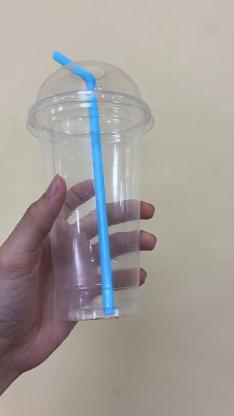Plastic Cup: (29, 64, 155, 322)
